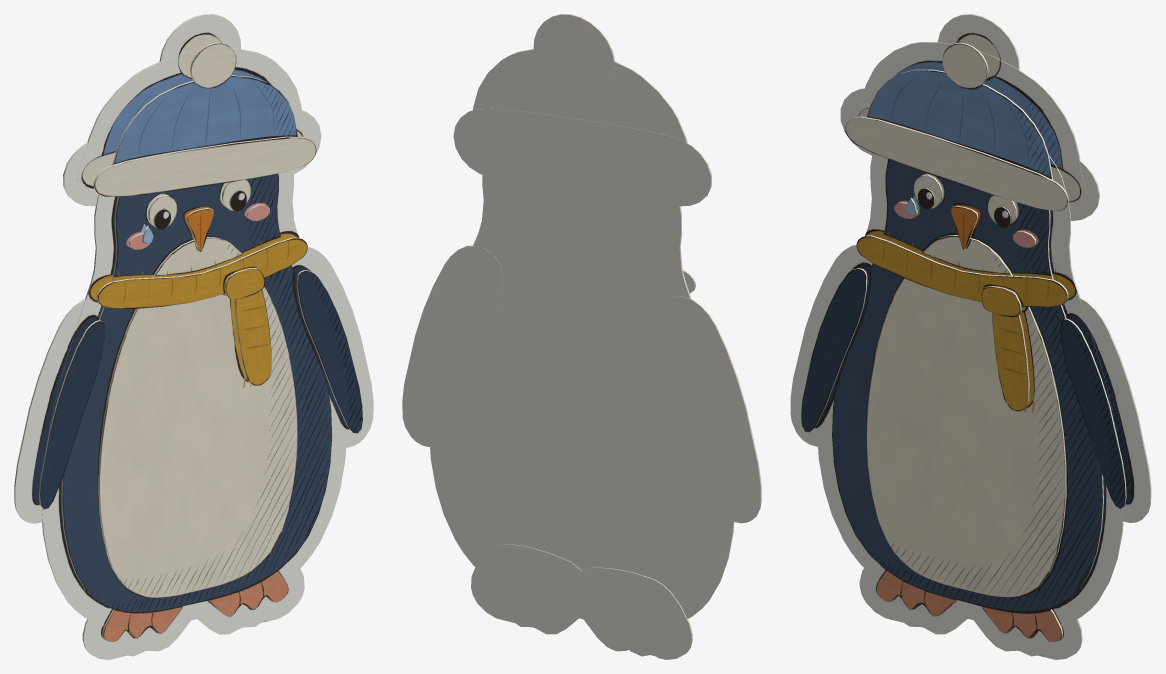
File: tuckSad.glb
3 views of the same model, side by side, from view 1: azimuth 30°, elevation 25°; view 2: azimuth 150°, elevation 25°; view 3: azimuth 330°, elevation 25° (orthographic).
Parts seen in each view (by area): view 1: tuckSad.001; view 2: tuckSad.001; view 3: tuckSad.001.
Boxes of the visible parts, bbox=[...] form: tuckSad.001: bbox=[14, 14, 373, 659]; tuckSad.001: bbox=[402, 14, 761, 659]; tuckSad.001: bbox=[790, 14, 1151, 659].
Size of the model in its own units: 0.6809 by 1.14 by 0.0465.
Materials: 3 (1 with a texture image).
